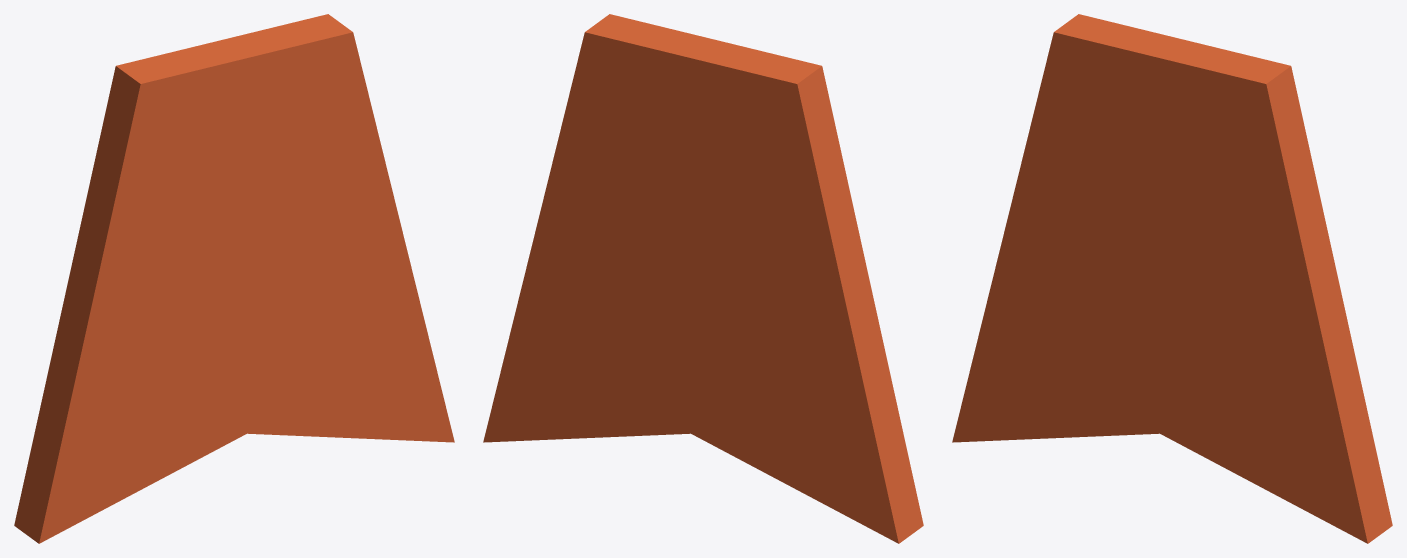
Rendered from Korm.fbx.
3 views of the same model, side by side, from view 1: azimuth 30°, elevation 25°; view 2: azimuth 150°, elevation 25°; view 3: azimuth 330°, elevation 25° (orthographic).
Parts seen in each view (by area): view 1: Cube; view 2: Cube; view 3: Cube.
Part boxes in pixels (x1,y1,x2,y2): Cube: [14, 14, 454, 543]; Cube: [483, 14, 923, 543]; Cube: [952, 14, 1392, 543].
Bounding box in the file's own units: 200 × 200 × 20.77.
